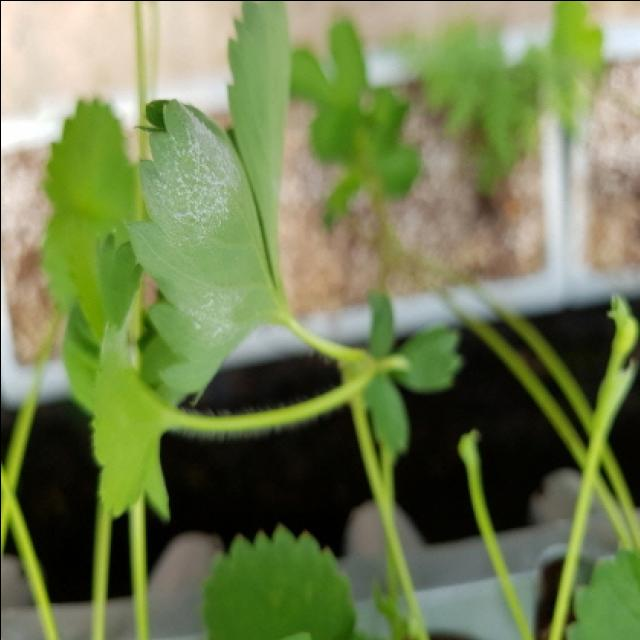Powdery Mildew Leaf: (124, 95, 289, 407)
